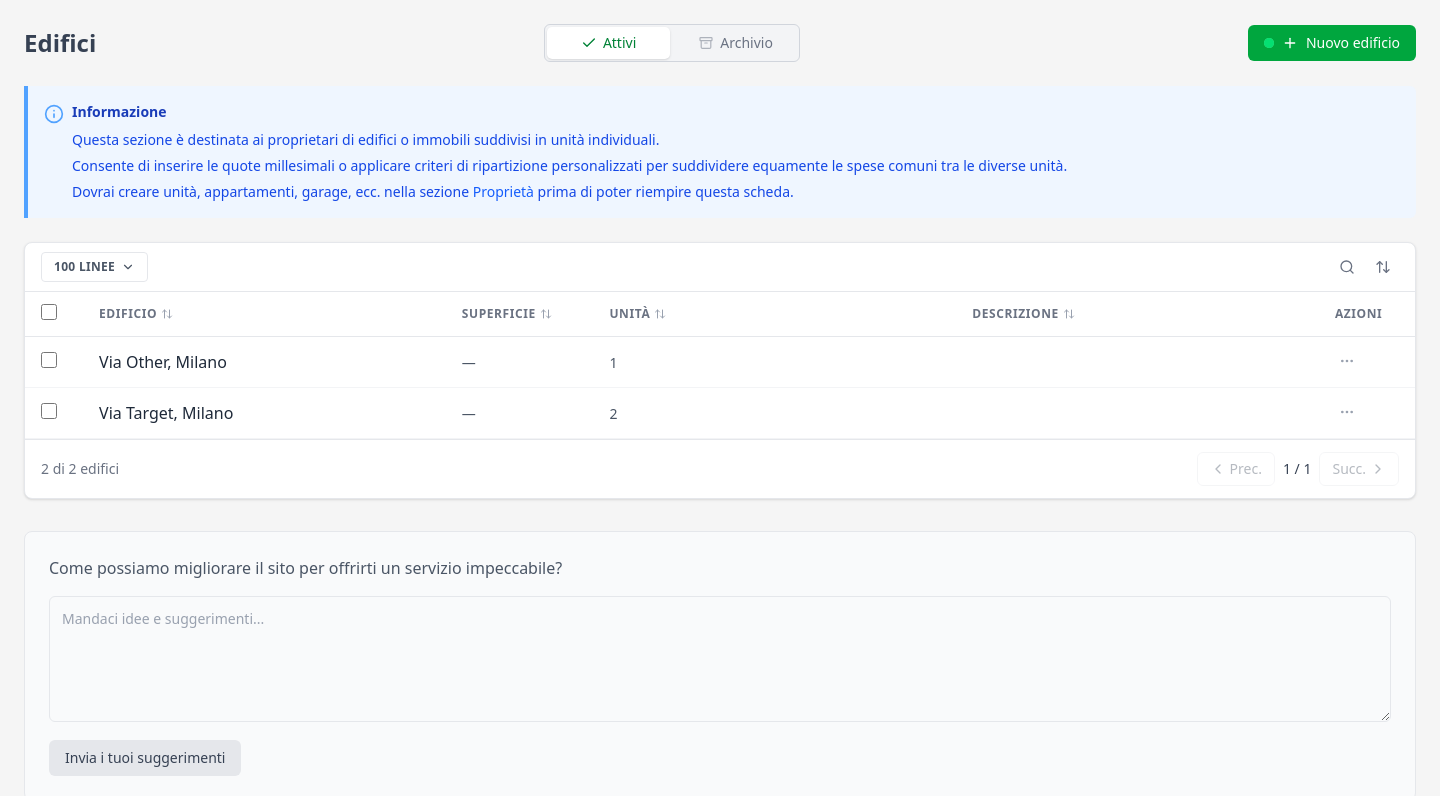
A6.5 consolidated Building detail gate › attraversa lista, dettaglio, sole unità collegate e PropertyDetailPage reale
Click the link "Via Target, Milano" at (166, 413), box left=99, top=402, right=233, bottom=424
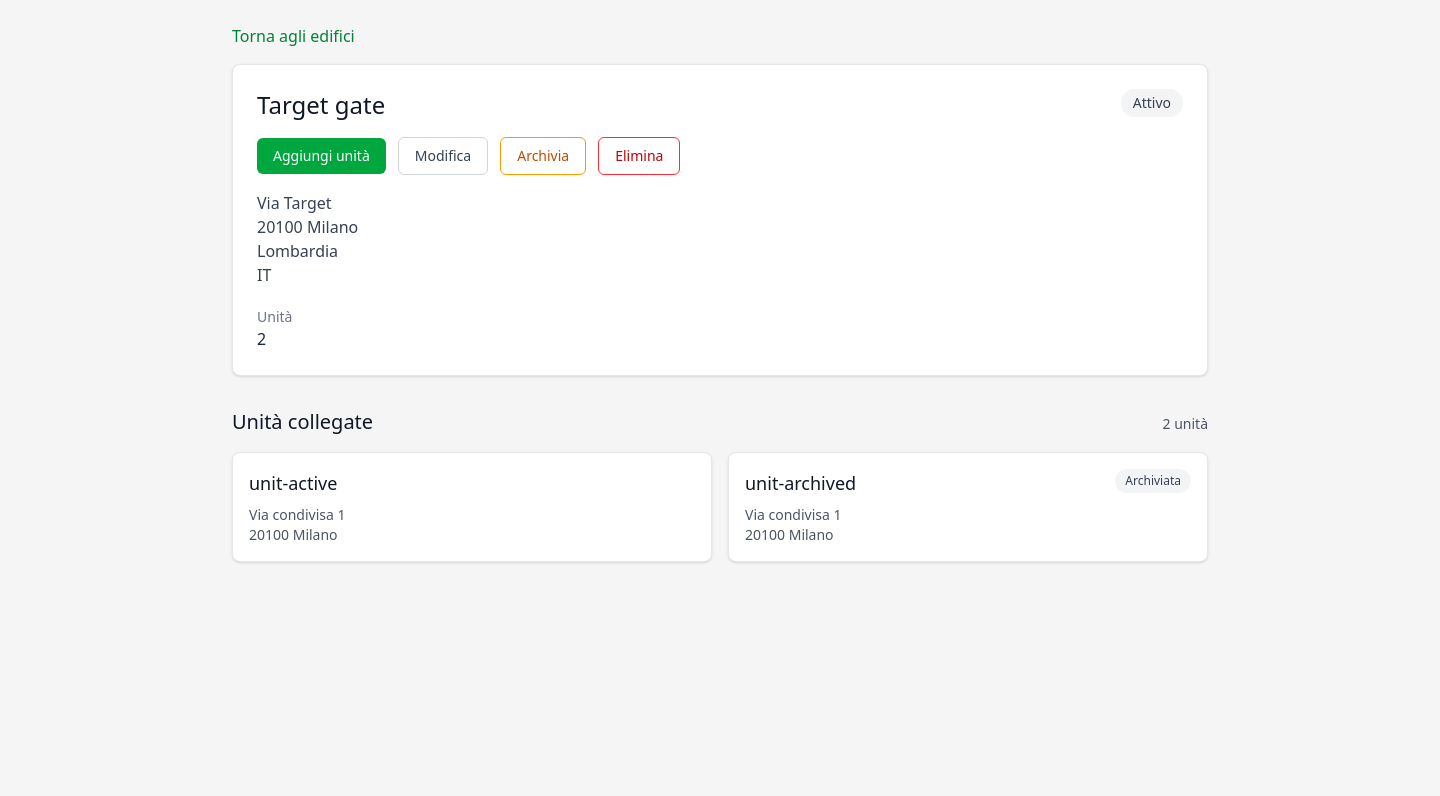
Expected: the heading "Target gate" is shown, left=257, top=89, right=385, bottom=121
Expected: the link "unit-active" is shown
Expected: the text "Archiviata" is shown, left=1115, top=469, right=1191, bottom=493
Click the link "unit-active" at (293, 483), box left=249, top=471, right=337, bottom=495
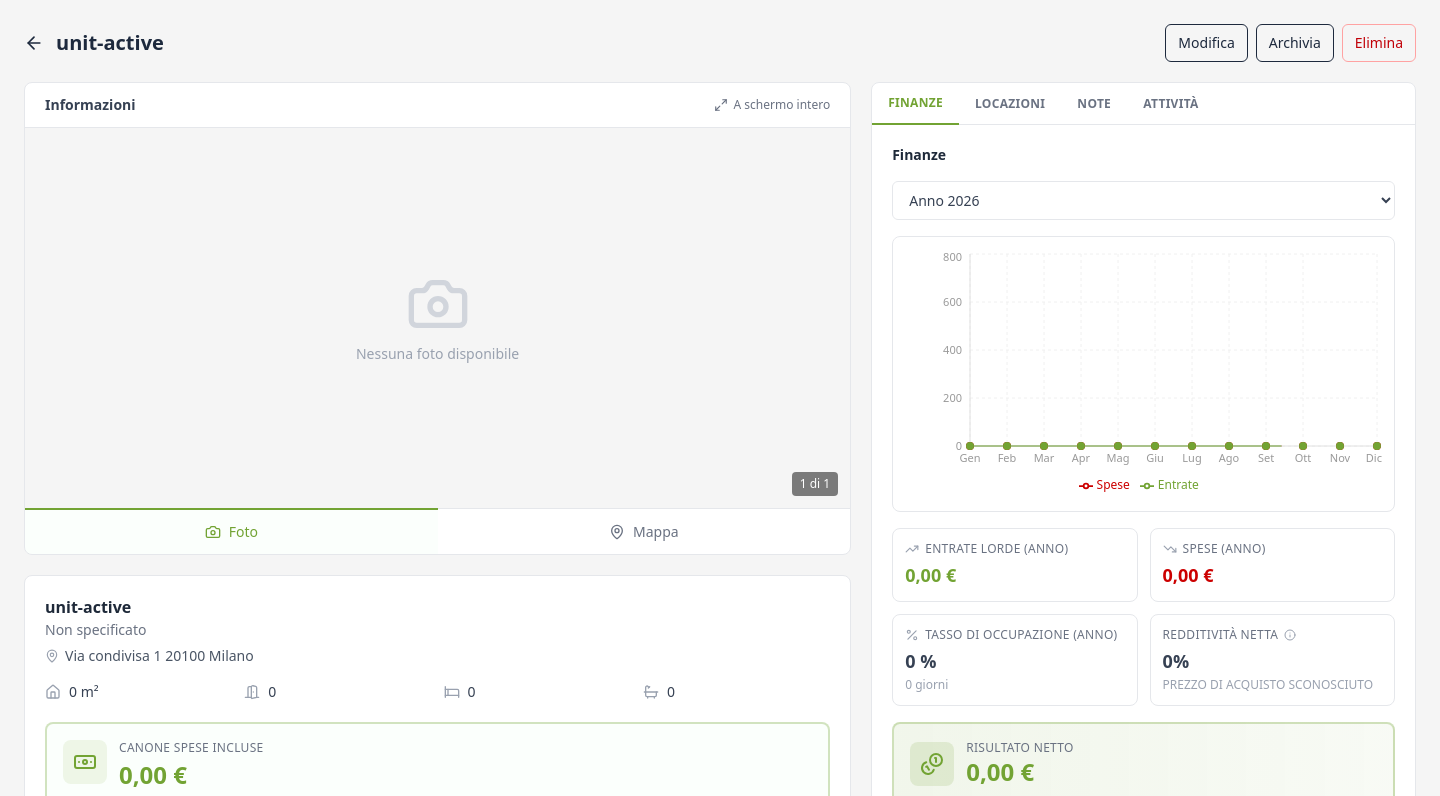
Expected: the heading "unit-active" in the row of "Modifica" is shown, left=56, top=29, right=164, bottom=57
